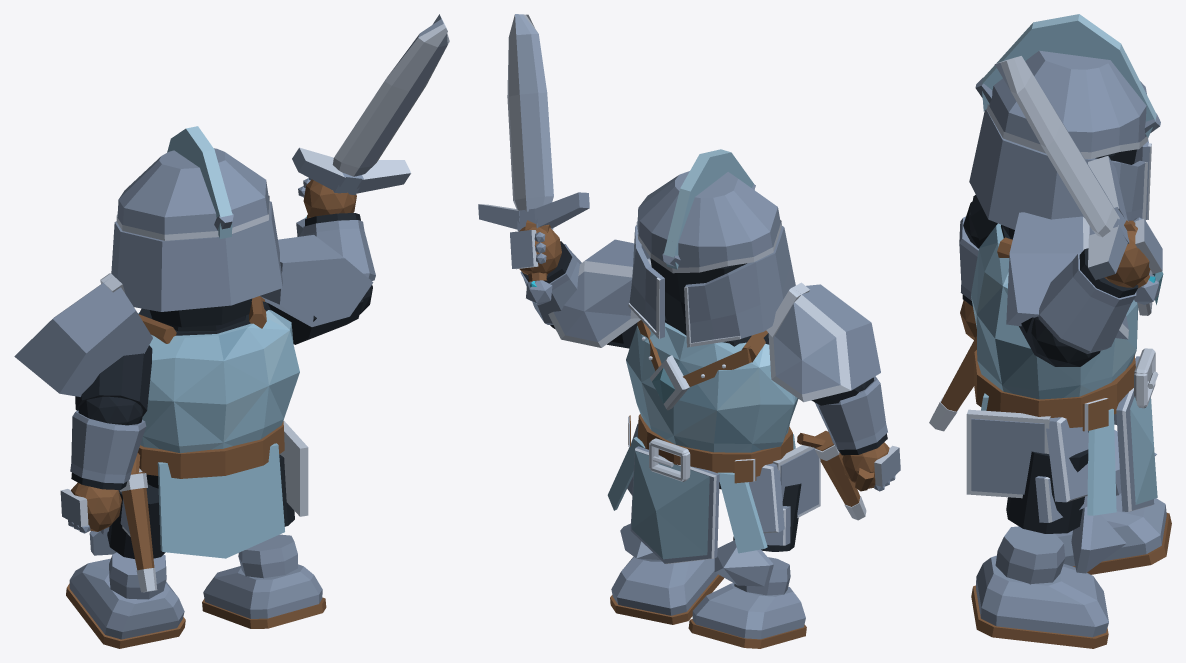
The model's file is warrior_guard.glb.
3 renders of one model, left to right at view 1: azimuth 30°, elevation 25°; view 2: azimuth 150°, elevation 25°; view 3: azimuth 270°, elevation 25°, orthographic. The views are drawn at different scales.
Visible parts, largest first — view 1: Body, Head, Arm.L, Arm.R, Leg.L, Sword, Leg.R; view 2: Body, Head, Arm.L, Arm.R, Sword, Leg.L, Leg.R; view 3: Body, Head, Leg.R, Arm.R, Sword, Leg.L, Arm.L.
Boxes of the visible parts, left/top/right/bottom form: Body: left=100, top=296, right=308, bottom=592; Head: left=111, top=126, right=282, bottom=327; Arm.L: left=14, top=273, right=152, bottom=533; Arm.R: left=260, top=178, right=375, bottom=344; Leg.L: left=66, top=484, right=185, bottom=648; Sword: left=292, top=14, right=449, bottom=236; Leg.R: left=202, top=454, right=326, bottom=628; Body: left=607, top=316, right=866, bottom=564; Head: left=628, top=149, right=795, bottom=347; Arm.L: left=766, top=282, right=900, bottom=491; Arm.R: left=510, top=220, right=651, bottom=348; Sword: left=478, top=14, right=589, bottom=305; Leg.L: left=688, top=483, right=806, bottom=648; Leg.R: left=610, top=523, right=723, bottom=624; Body: left=929, top=223, right=1163, bottom=522; Head: left=969, top=14, right=1160, bottom=237; Leg.R: left=971, top=449, right=1126, bottom=648; Arm.R: left=1006, top=212, right=1162, bottom=366; Sword: left=994, top=56, right=1159, bottom=304; Leg.L: left=1055, top=430, right=1171, bottom=574; Arm.L: left=959, top=195, right=997, bottom=339.
Bounding box in the file's own units: 0.9849 × 1.34 × 0.4412.
